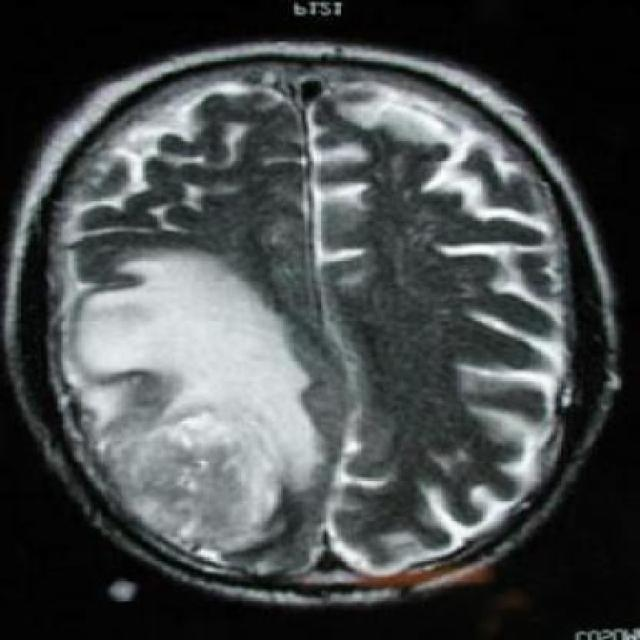Tumor: (102, 267, 282, 551)
